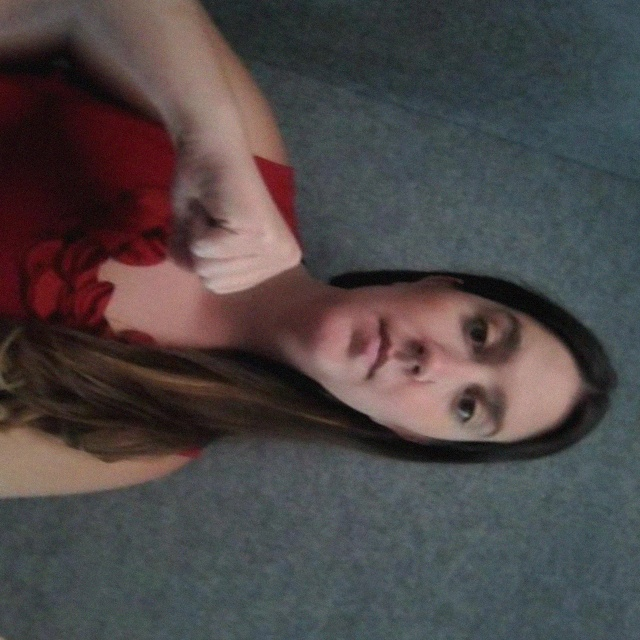Rock: (88, 74, 357, 338)
